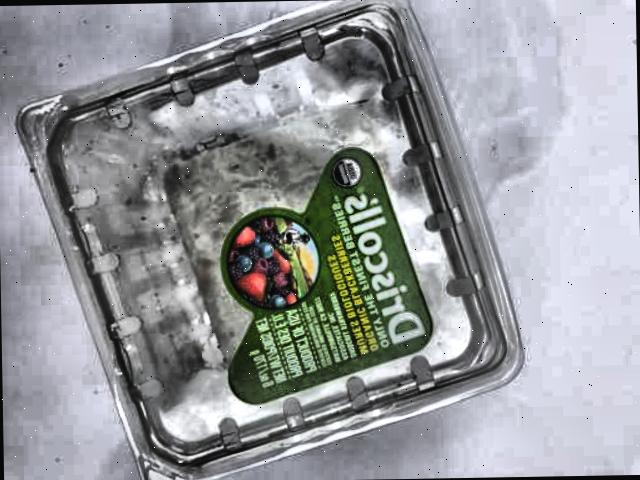Plastic: (10, 7, 549, 480)
